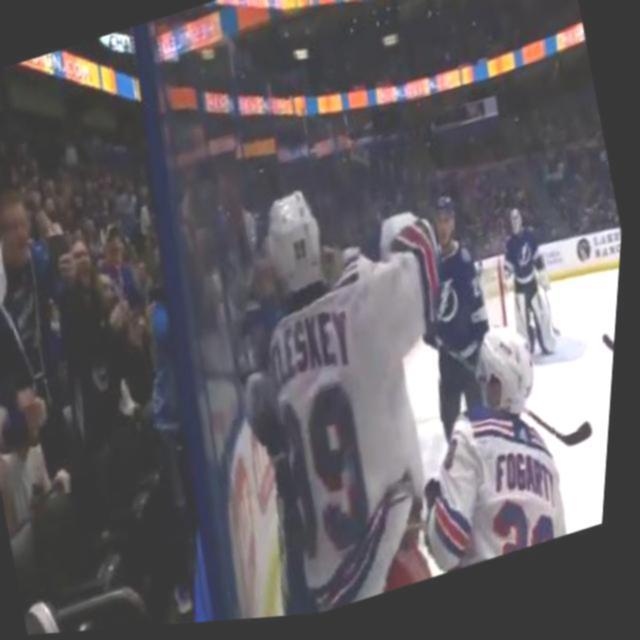fight: (172, 147, 528, 628)
